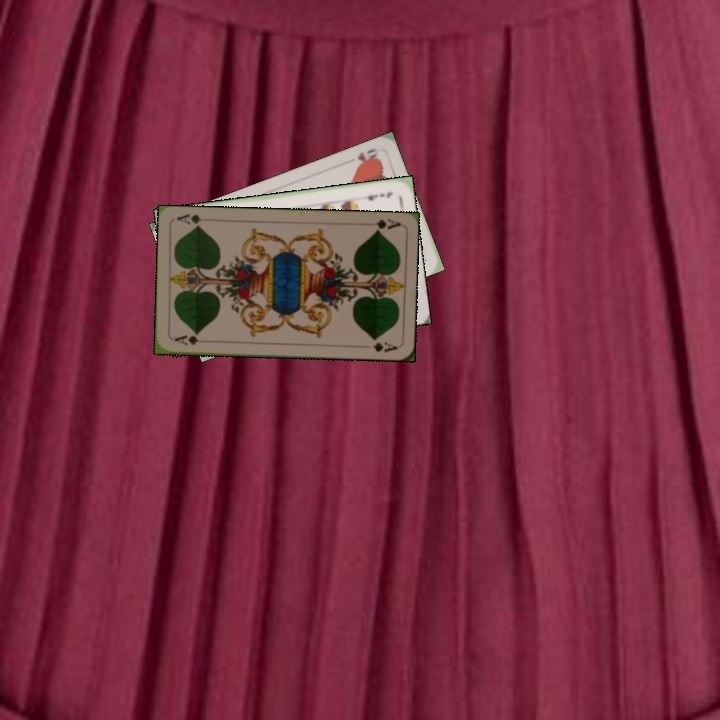E7: (357, 188, 395, 203)
GA: (170, 331, 210, 348), (371, 215, 402, 235)
HO: (352, 144, 381, 169)
